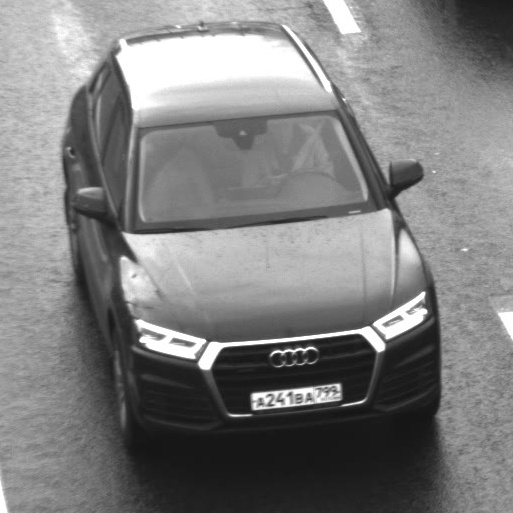plate: (238, 370, 353, 418)
